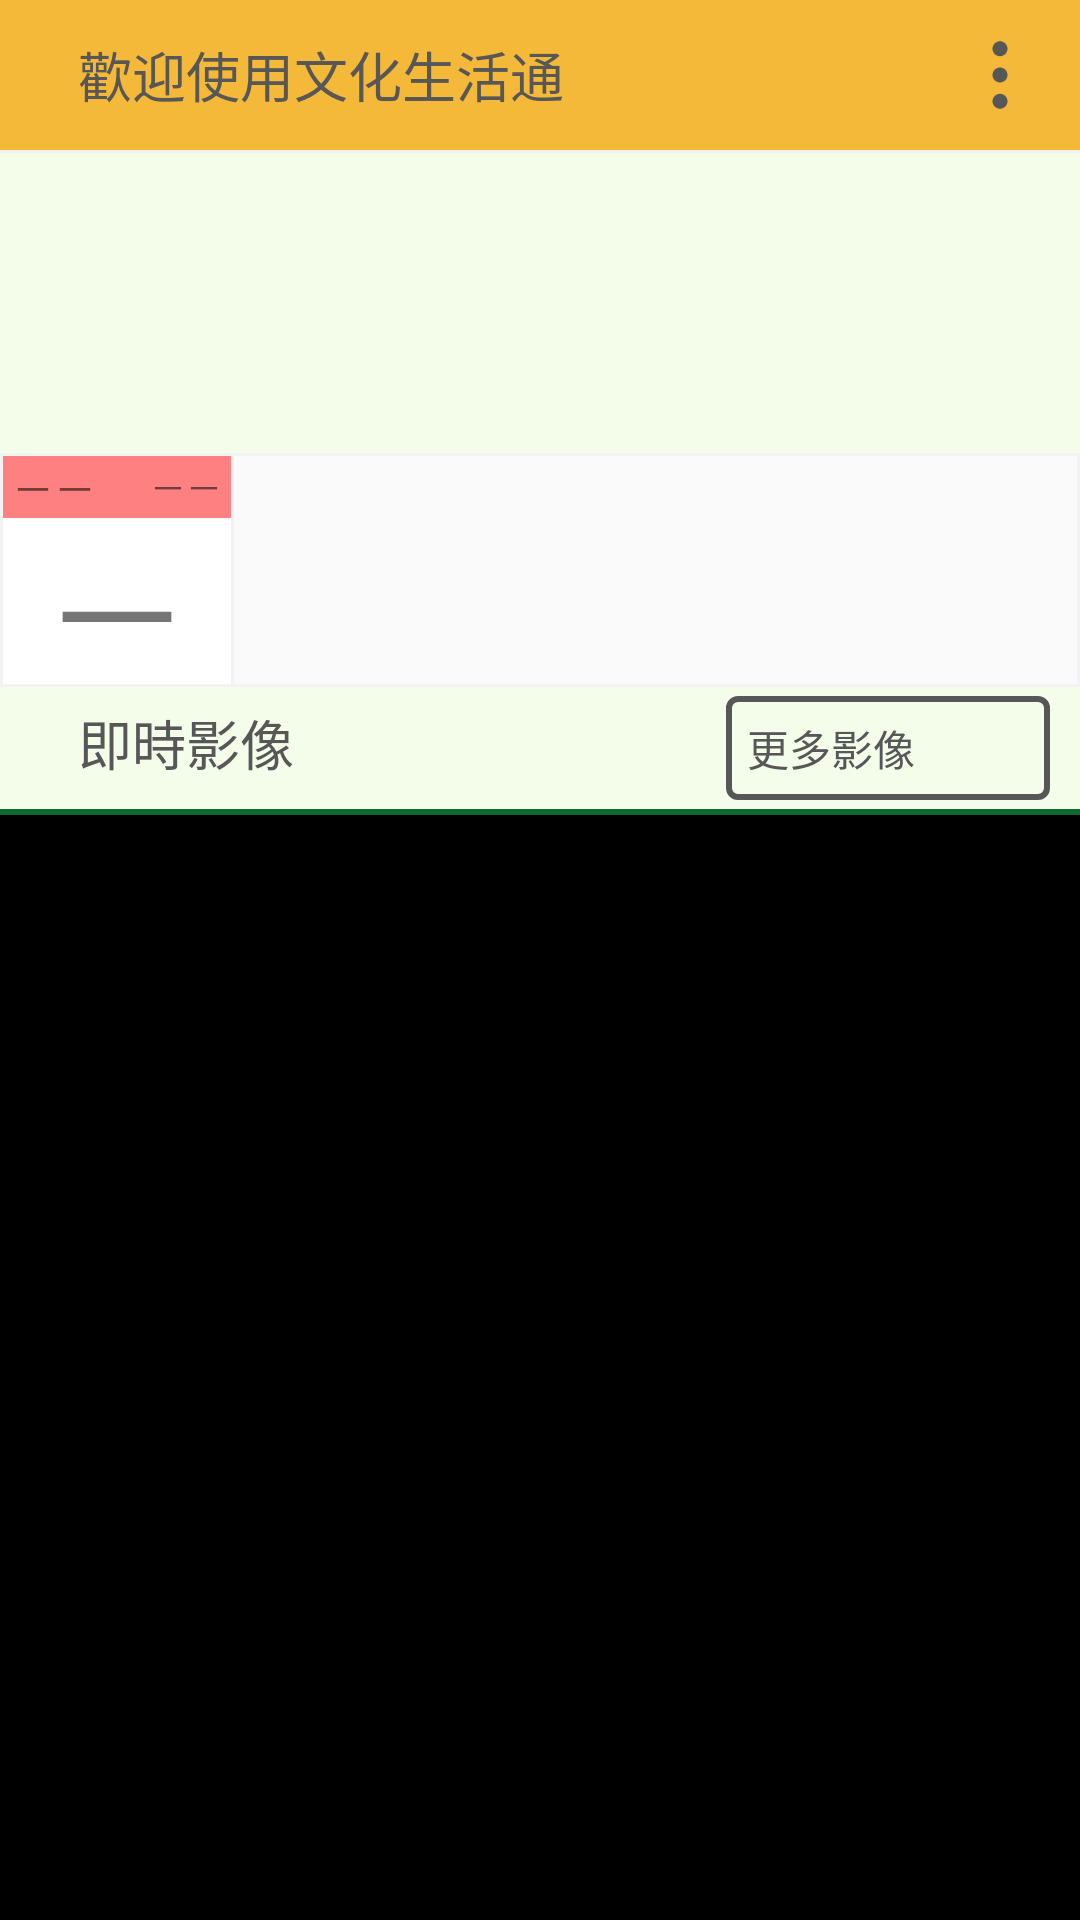

Icon click points for this 1080x1920 phone screenshot, format (x,y):
more: (1000,75)
